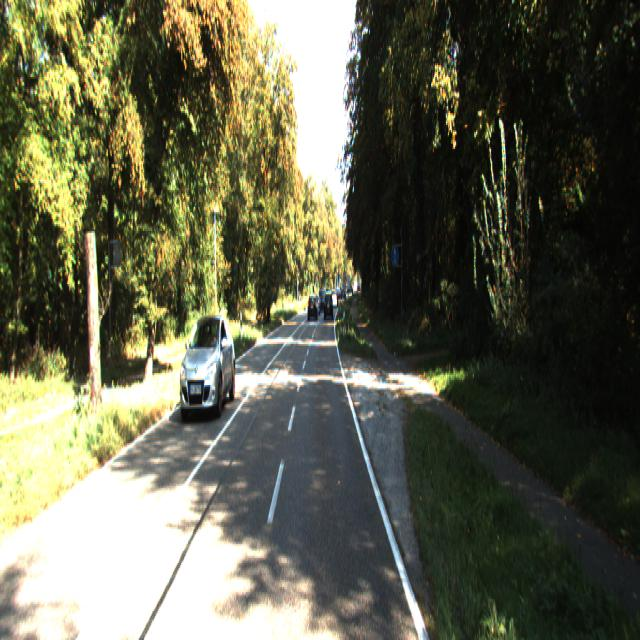Car: (176, 311, 237, 421)
